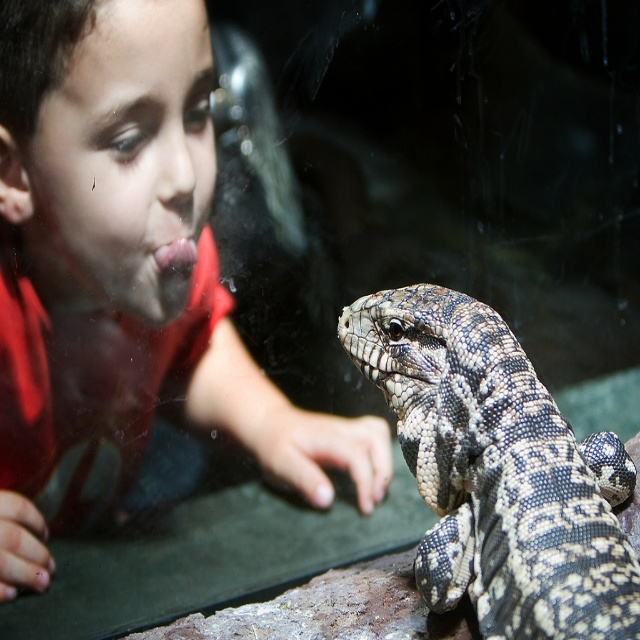Lizard: (337, 281, 639, 639)
